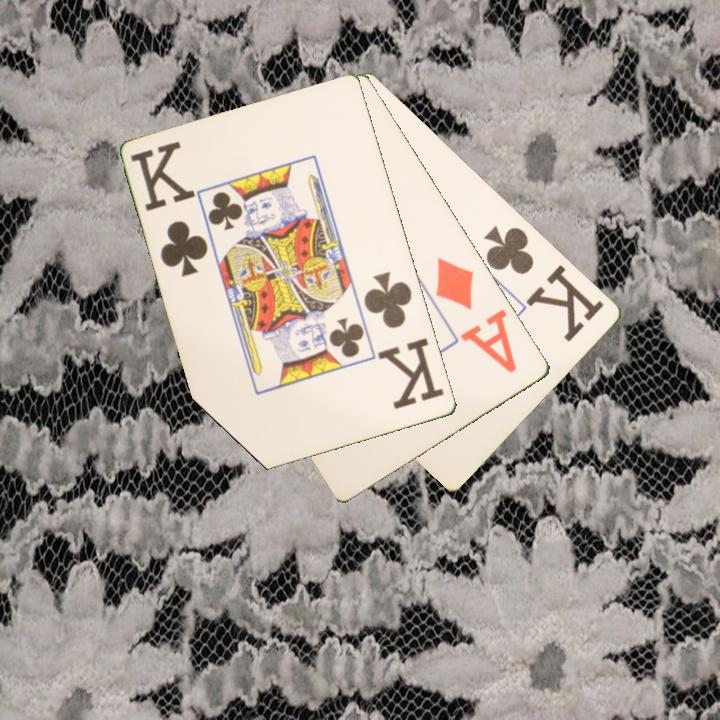Ad: (432, 254, 521, 377)
Kc: (481, 221, 608, 344), (360, 268, 448, 413), (127, 138, 212, 280)
